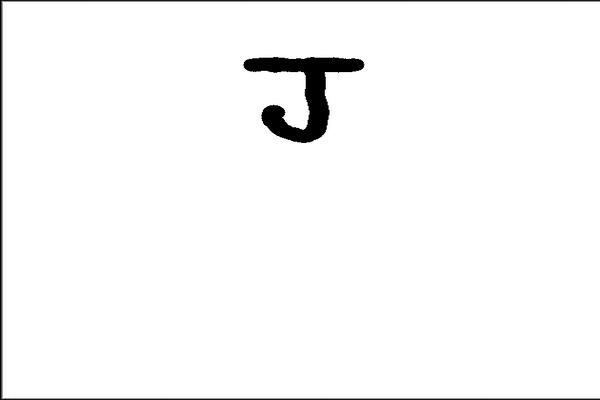J: (239, 50, 371, 147)
